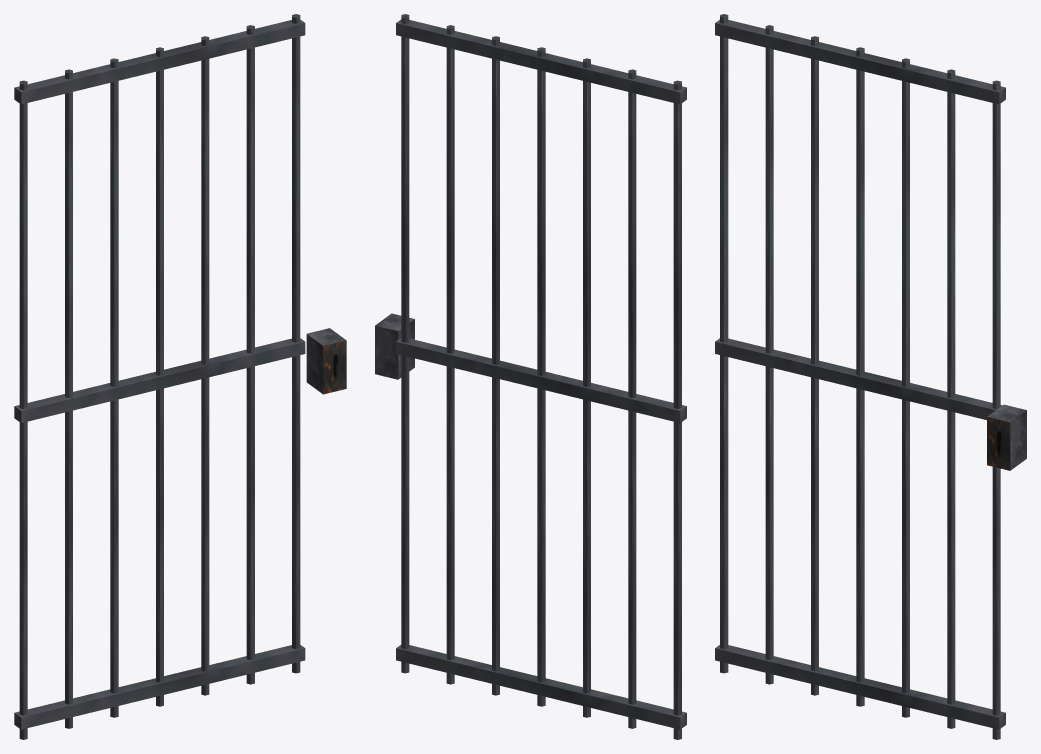
File: door_cell.obj
3 views of the same model, side by side, from view 1: azimuth 30°, elevation 25°; view 2: azimuth 150°, elevation 25°; view 3: azimuth 330°, elevation 25° (orthographic).
Visible parts, largest first — view 1: door_cell_leaf, door_cell; view 2: door_cell_leaf, door_cell; view 3: door_cell_leaf, door_cell.
Boxes of the visible parts, x1=… form: door_cell_leaf: x1=14, y1=14, x2=305, y2=739; door_cell: x1=306, y1=328, x2=346, y2=394; door_cell_leaf: x1=396, y1=14, x2=686, y2=739; door_cell: x1=375, y1=313, x2=414, y2=379; door_cell_leaf: x1=715, y1=14, x2=1005, y2=739; door_cell: x1=987, y1=404, x2=1026, y2=470.
Bounding box in the file's own units: 1.07 × 2.16 × 0.13.
1 material, 1 textured.
